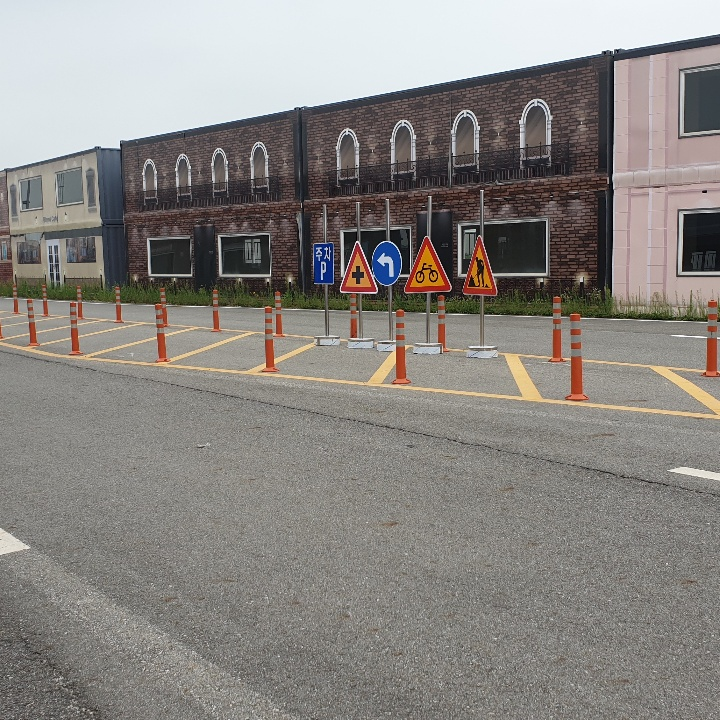bicycle: (404, 236, 449, 292)
const: (465, 250, 491, 290), (347, 262, 369, 285)
left: (376, 251, 396, 278)
parking: (317, 259, 330, 279)
